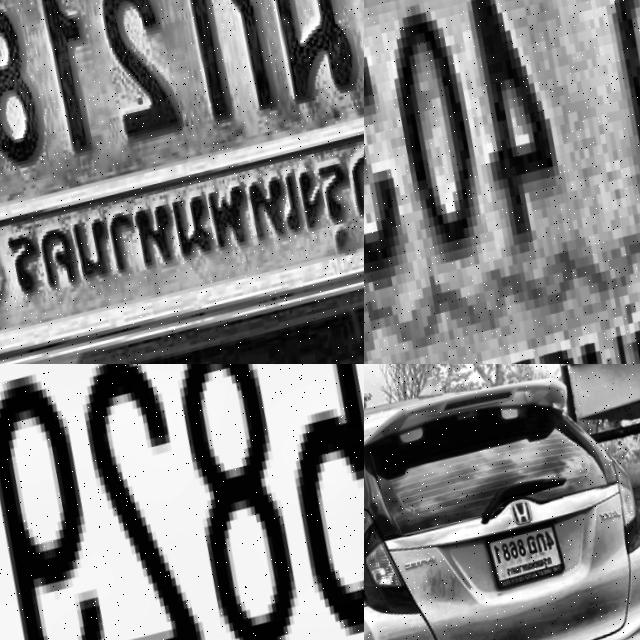license-plate: (0, 0, 364, 364), (364, 0, 640, 364), (0, 364, 364, 640), (482, 519, 570, 596)
